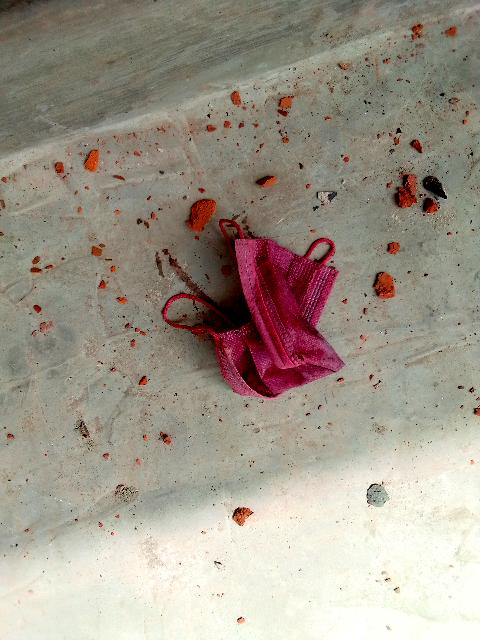mask: (201, 201, 347, 413)
